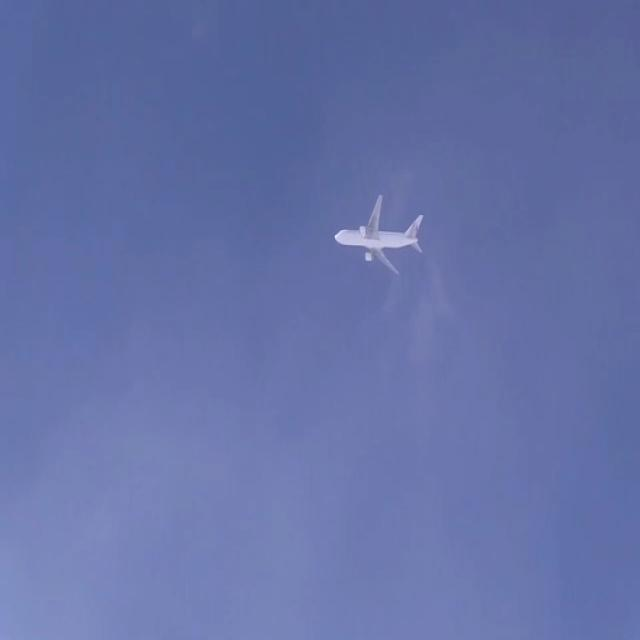AirPlane: (324, 178, 426, 298)
